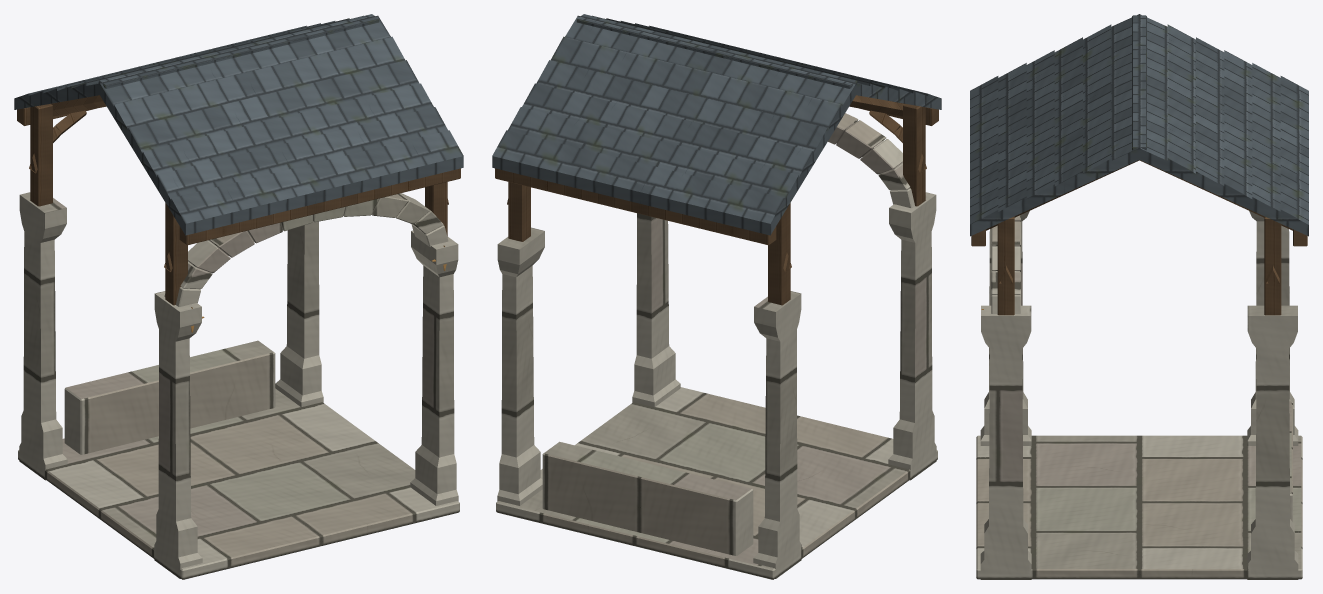
File: Furn_Arcade2_Straight.fbx
3 views of the same model, side by side, from view 1: azimuth 30°, elevation 25°; view 2: azimuth 150°, elevation 25°; view 3: azimuth 270°, elevation 25° (orthographic).
Visible parts, largest first — view 1: Furn_Arcade2_Straight_Mesh; view 2: Furn_Arcade2_Straight_Mesh; view 3: Furn_Arcade2_Straight_Mesh.
Part boxes in pixels (x1,y1,x2,y2): Furn_Arcade2_Straight_Mesh: (14,14,463,579); Furn_Arcade2_Straight_Mesh: (492,14,941,579); Furn_Arcade2_Straight_Mesh: (970,14,1308,579).
Size of the model in its own units: 3 by 4.5 by 3.2.
Materials: 4 (3 with a texture image).
